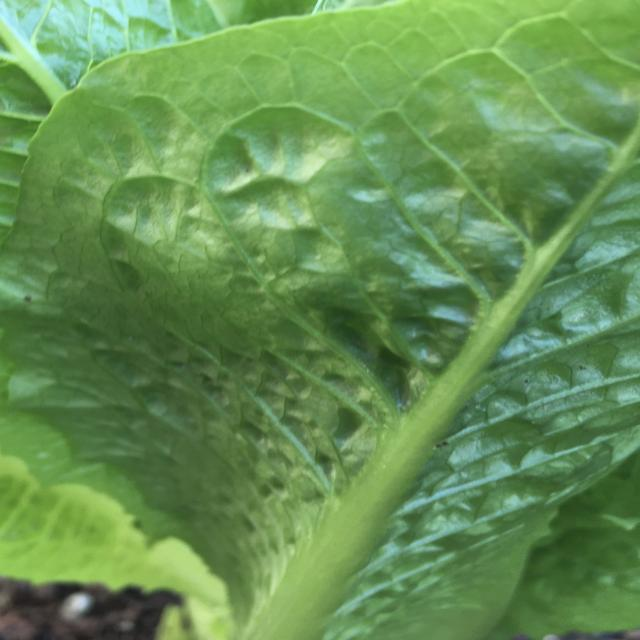Healthy Lettuce: (4, 2, 636, 636)
